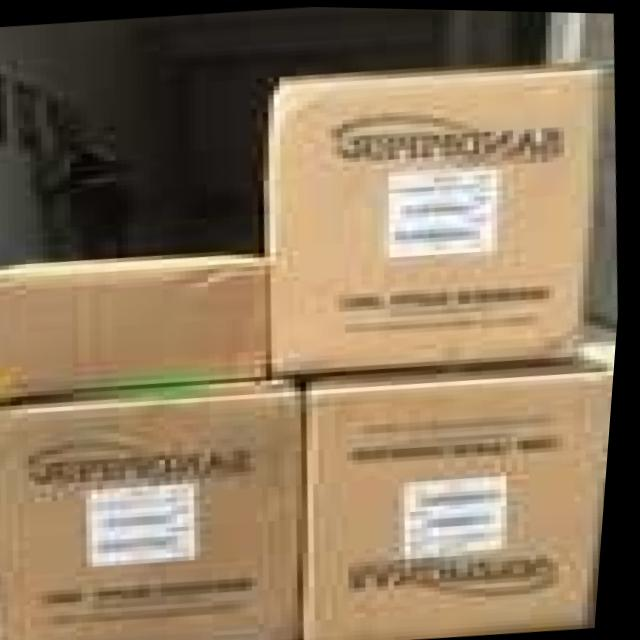box: (266, 64, 608, 374), (311, 349, 619, 640), (0, 376, 313, 640), (0, 252, 275, 403)
